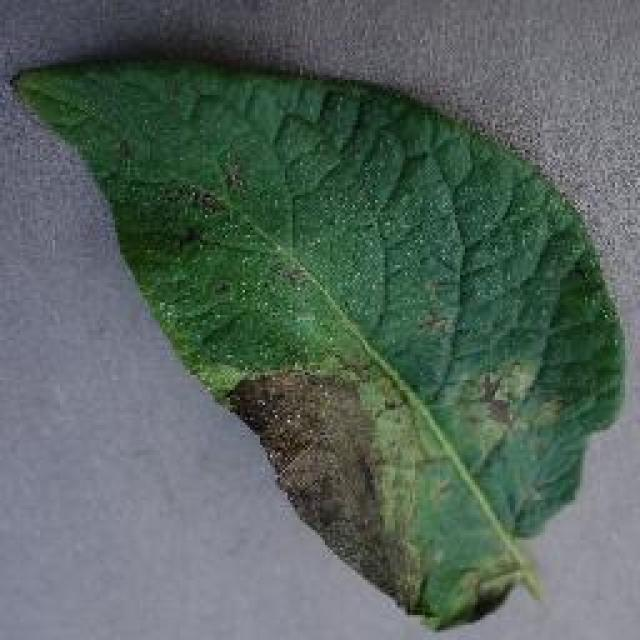late_blight: (8, 48, 630, 632)
